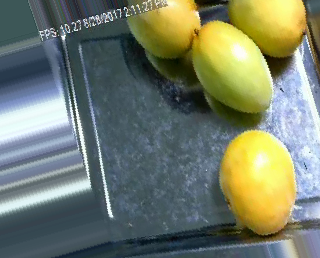Mango: (216, 126, 302, 235), (189, 16, 276, 120), (227, 0, 311, 65), (124, 1, 204, 61)
